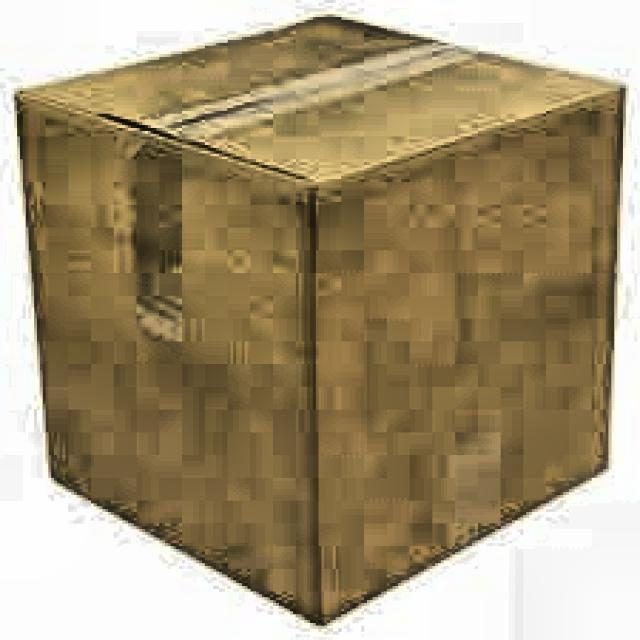cardboard: (11, 8, 626, 626)
